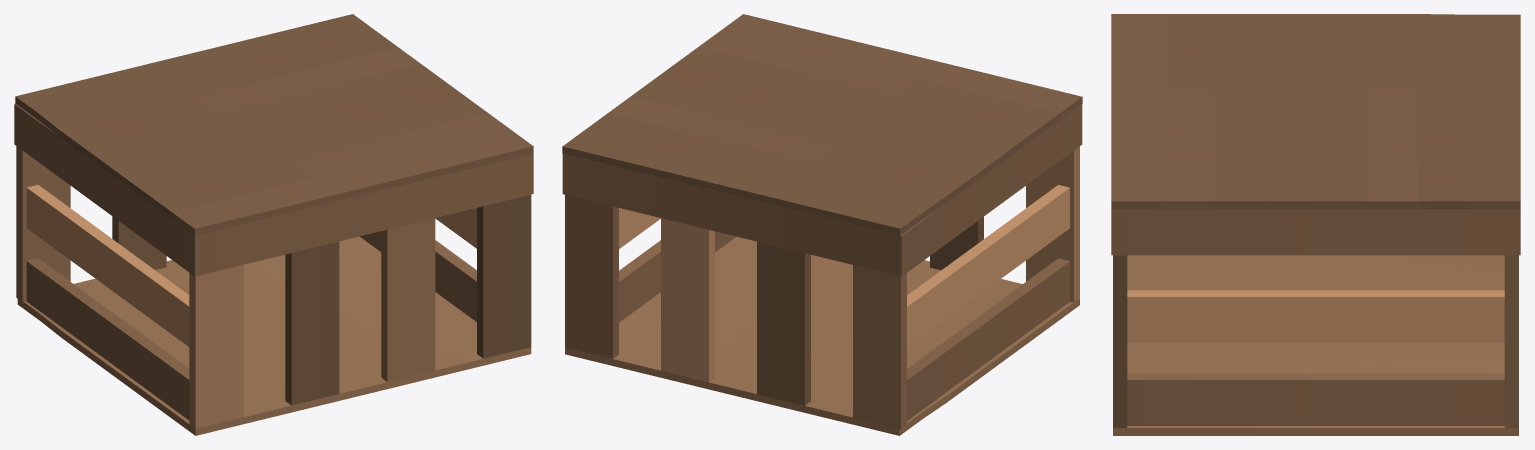
File: Med Mid Crate Closed.fbx
The picture shows the model from 3 angles, left to right: view 1: azimuth 30°, elevation 25°; view 2: azimuth 150°, elevation 25°; view 3: azimuth 270°, elevation 25°; orthographic projection. The views are drawn at different scales.
Visible parts, largest first — view 1: Med Mid Crate Closed; view 2: Med Mid Crate Closed; view 3: Med Mid Crate Closed.
Part boxes in pixels (bbox=[...]): Med Mid Crate Closed: bbox=[14, 14, 533, 435]; Med Mid Crate Closed: bbox=[562, 14, 1082, 435]; Med Mid Crate Closed: bbox=[1111, 14, 1520, 435].
Size of the model in its own units: 122 by 192 by 208.
Materials: 1 (1 with a texture image).
